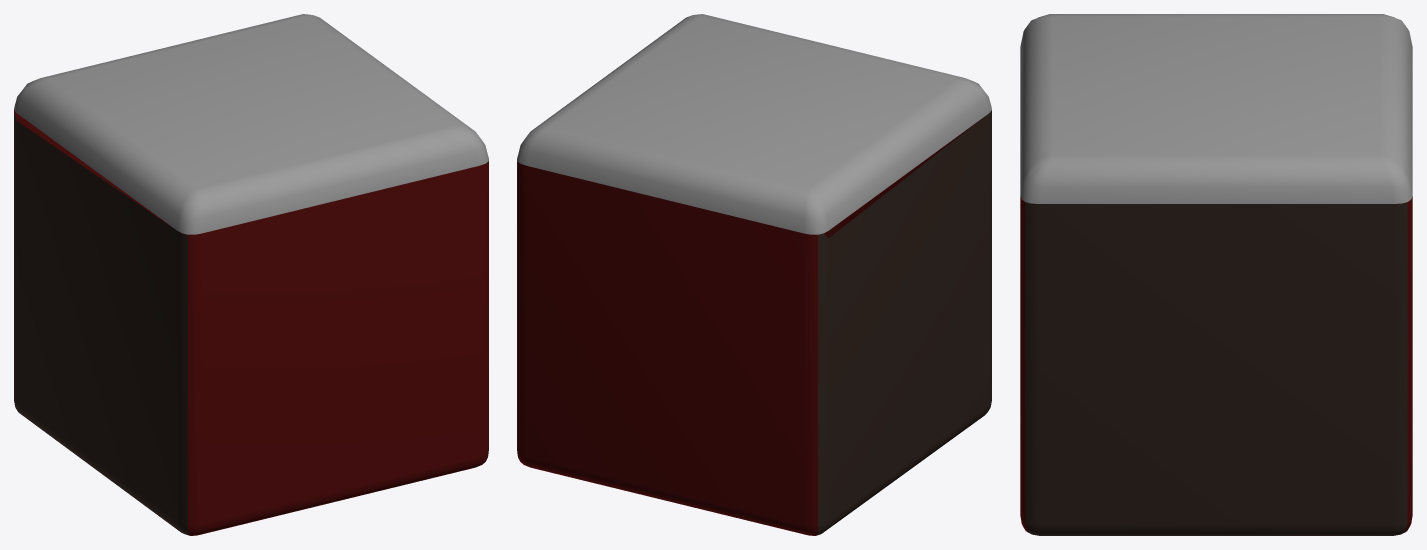
The picture shows the model from 3 angles, left to right: view 1: azimuth 30°, elevation 25°; view 2: azimuth 150°, elevation 25°; view 3: azimuth 270°, elevation 25°; orthographic projection. The views are drawn at different scales.
Visible parts, largest first — view 1: Cube001; view 2: Cube001; view 3: Cube001.
Part boxes in pixels (x1=…): Cube001: x1=14, y1=14, x2=488, y2=535; Cube001: x1=517, y1=14, x2=991, y2=535; Cube001: x1=1020, y1=14, x2=1412, y2=535.
Size of the model in its own units: 50 by 52.48 by 50.
